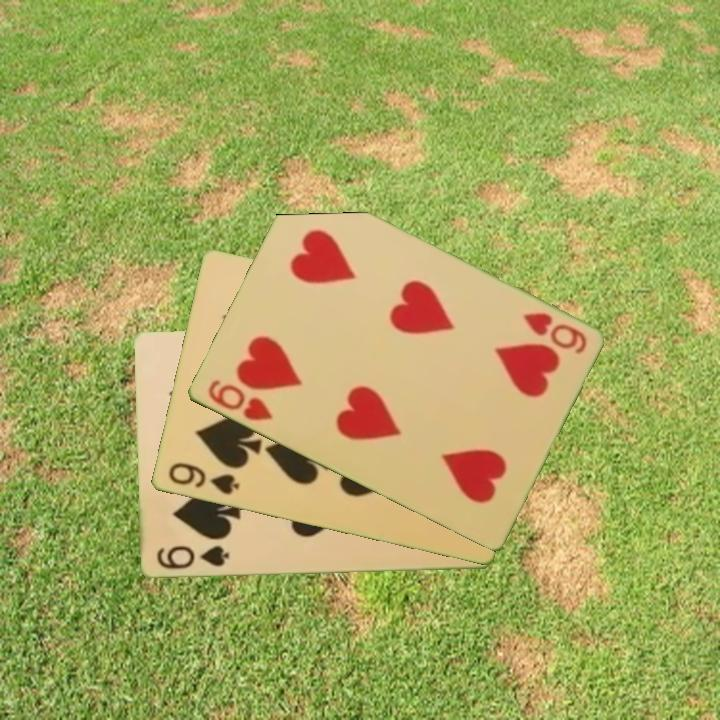6h: (203, 376, 276, 424), (518, 309, 590, 357)
6s: (152, 542, 231, 573)
9s: (164, 459, 242, 498)
